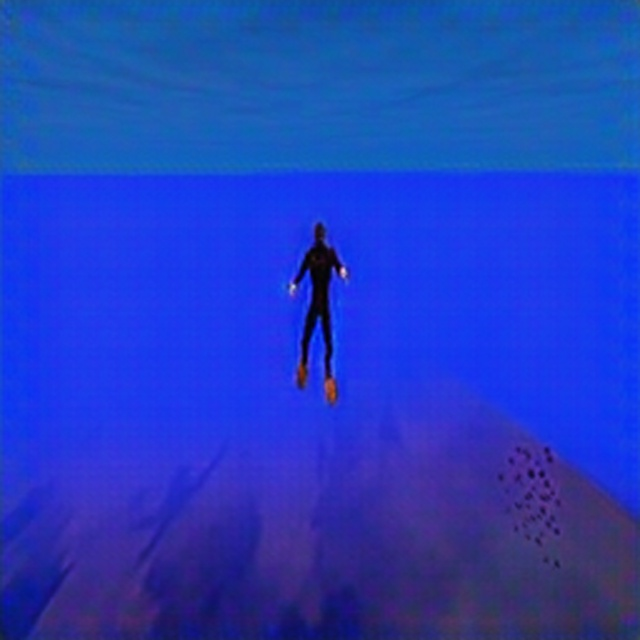diver: (286, 217, 350, 404)
